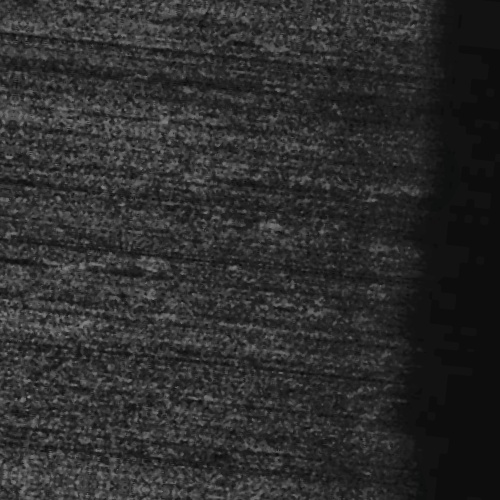object: (37, 280, 90, 285)
shadow: (0, 280, 63, 285)
